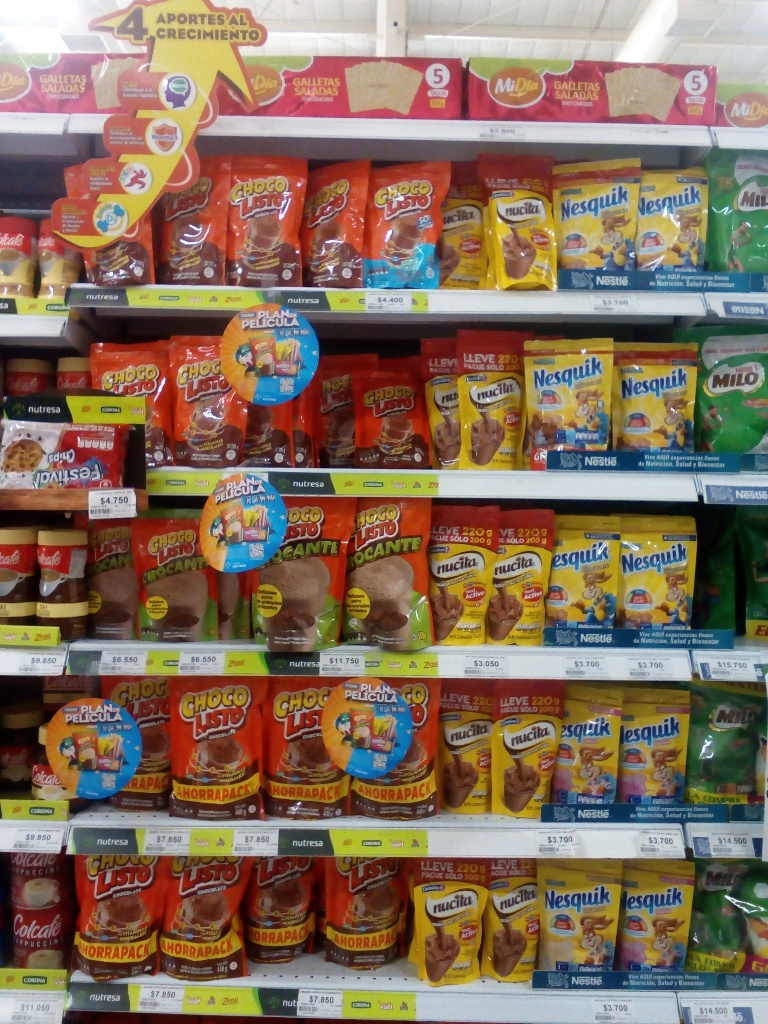COL0170102DYP25000: (128, 507, 222, 643)
COL0170102DYP50000: (346, 493, 436, 651)
COL0170103DYP44000: (95, 670, 170, 814)
COL0170104DYP20000: (363, 164, 453, 294)
COL0170205DYP50000: (686, 328, 766, 455)
COL0170303DYP20000: (542, 154, 634, 294)
COL0170305DYP20000: (550, 681, 619, 820)
COL0170306DYP20000: (537, 856, 619, 987)
